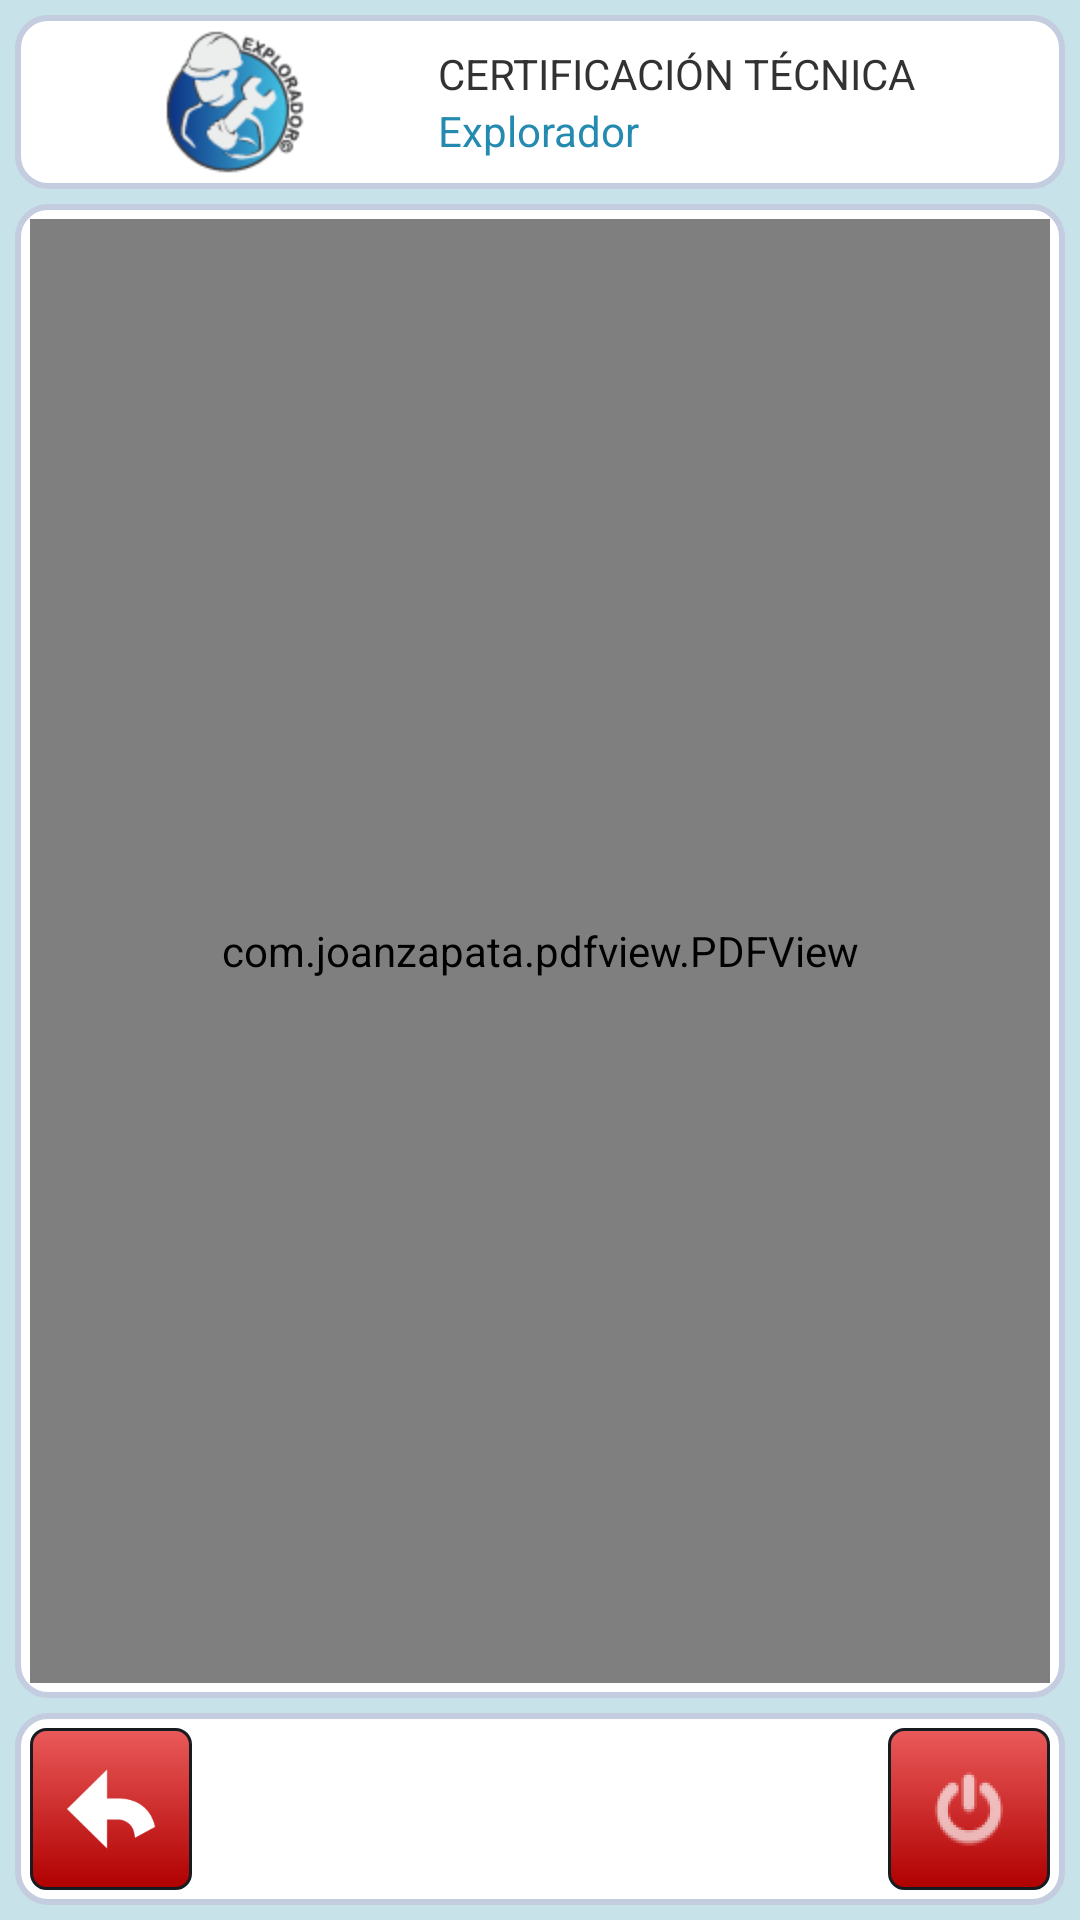

Icons on this 1080×1920 Android screen, each with the point to tap as (x,y):
back: (111,1809)
shutdown: (969,1809)
